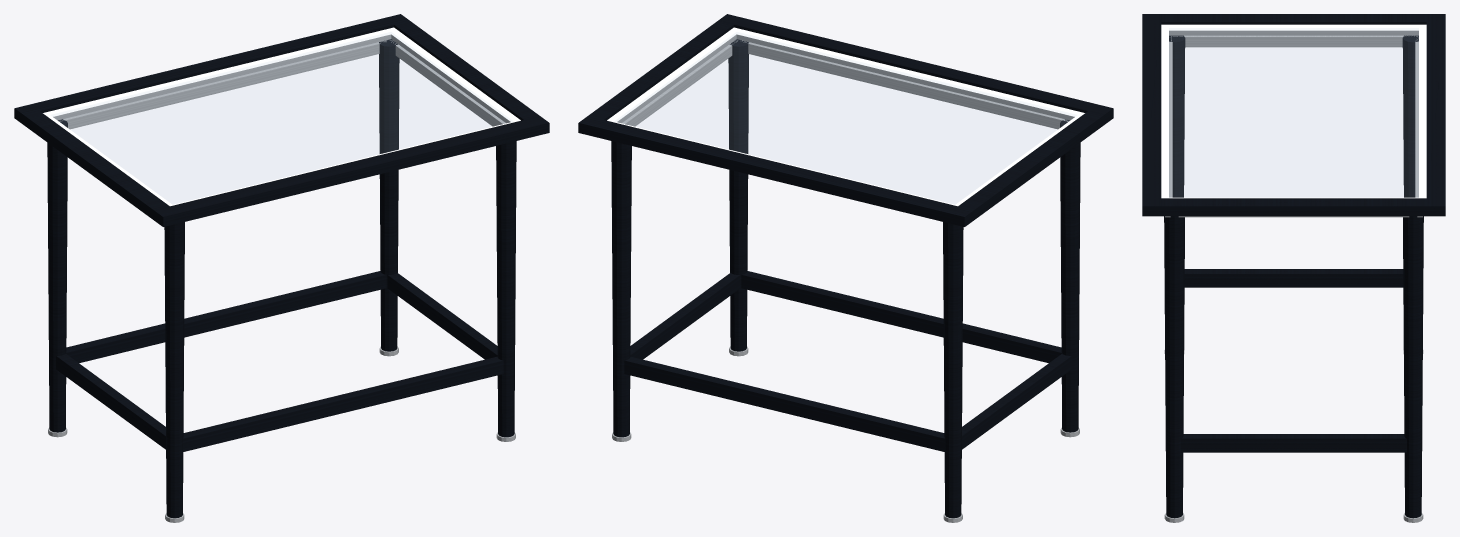
3 renders of one model, left to right at view 1: azimuth 30°, elevation 25°; view 2: azimuth 150°, elevation 25°; view 3: azimuth 270°, elevation 25°, orthographic.
Visible parts, largest first — view 1: light-table-frame; view 2: light-table-frame; view 3: light-table-frame.
Boxes of the visible parts, bbox=[...] form: light-table-frame: bbox=[14, 14, 549, 522]; light-table-frame: bbox=[578, 14, 1113, 522]; light-table-frame: bbox=[1142, 14, 1445, 522].
Size of the model in its own units: 1.2 by 0.95 by 0.8.
Materials: 4 (2 with a texture image).
